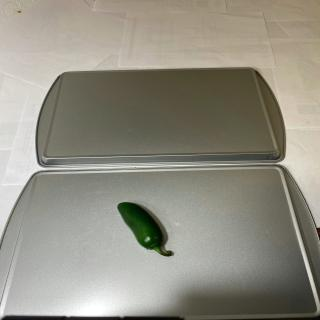Chilli: (116, 201, 173, 257)
